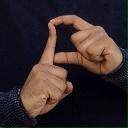hand: (18, 22, 73, 118), (50, 14, 123, 75)
